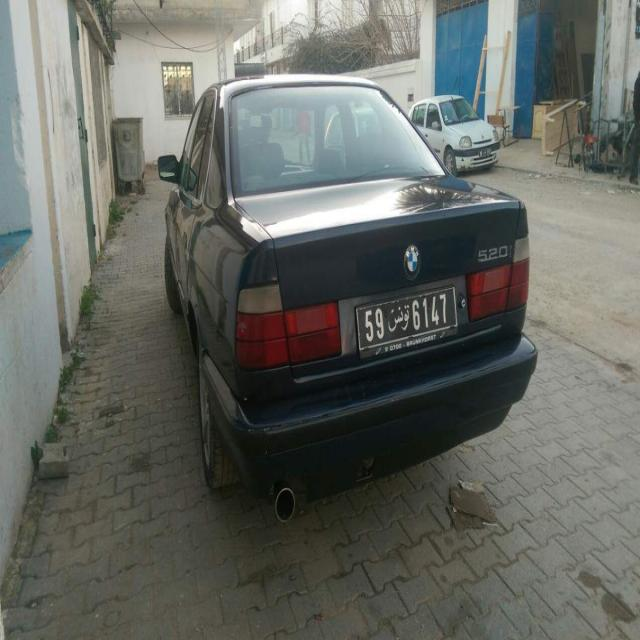LP: (352, 284, 462, 350)
